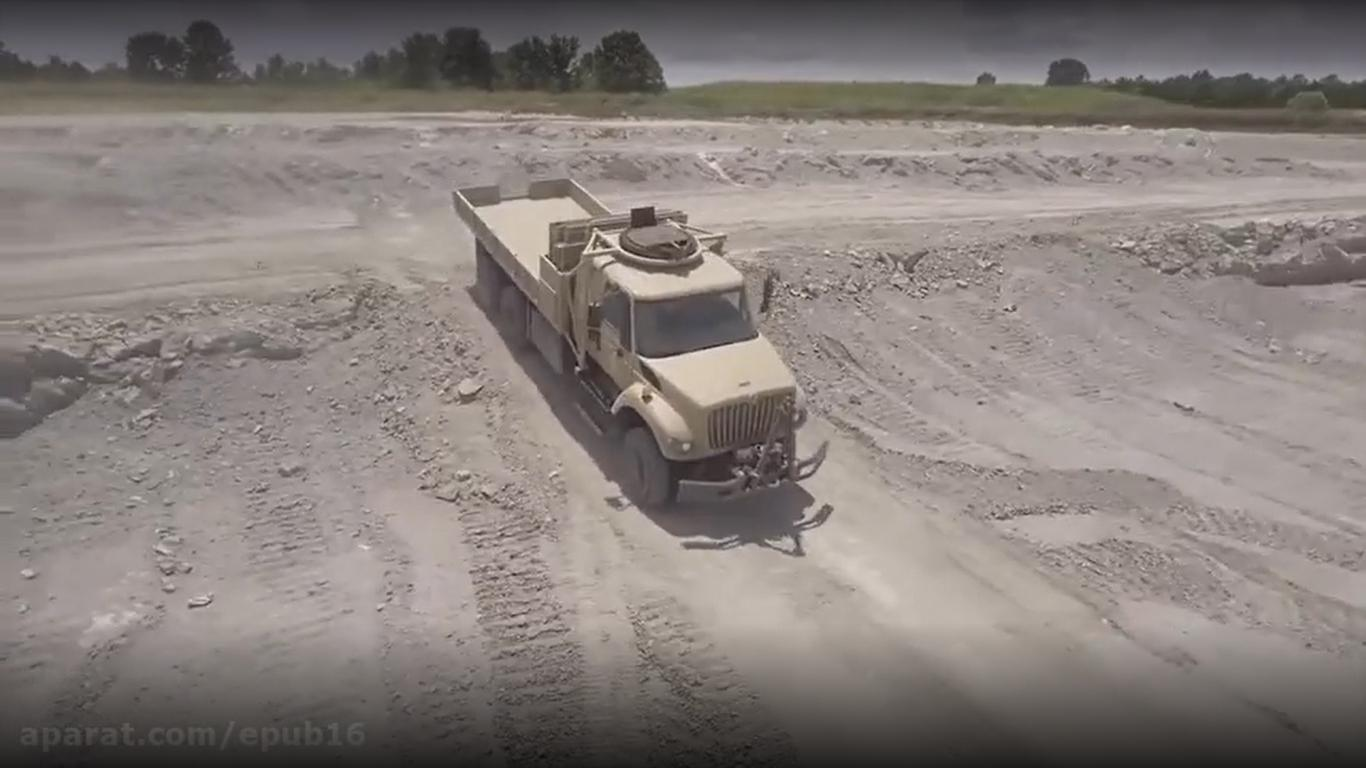truck: (444, 169, 833, 520)
